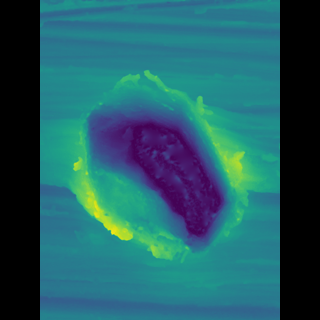Loch: (88, 65, 230, 270)
